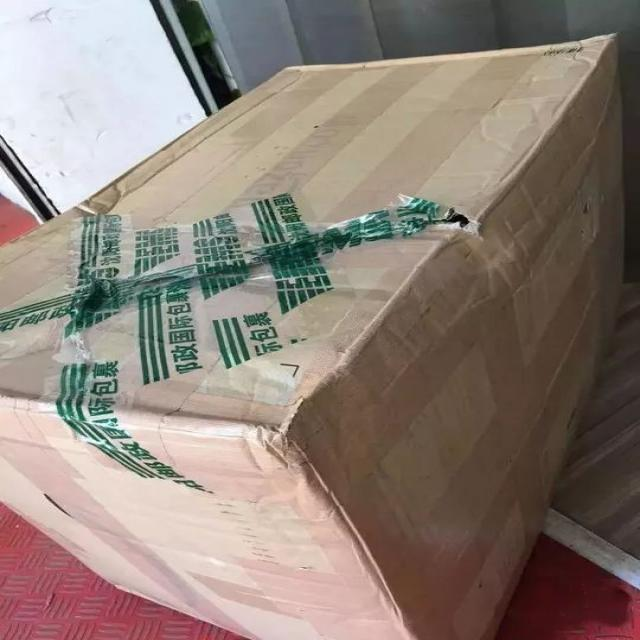damaged: (437, 205, 478, 255)
